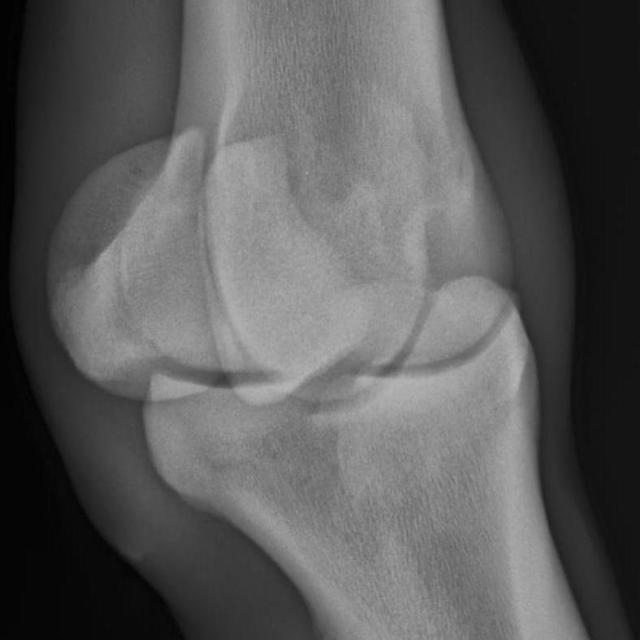bone remodeling: (492, 273, 544, 337)
